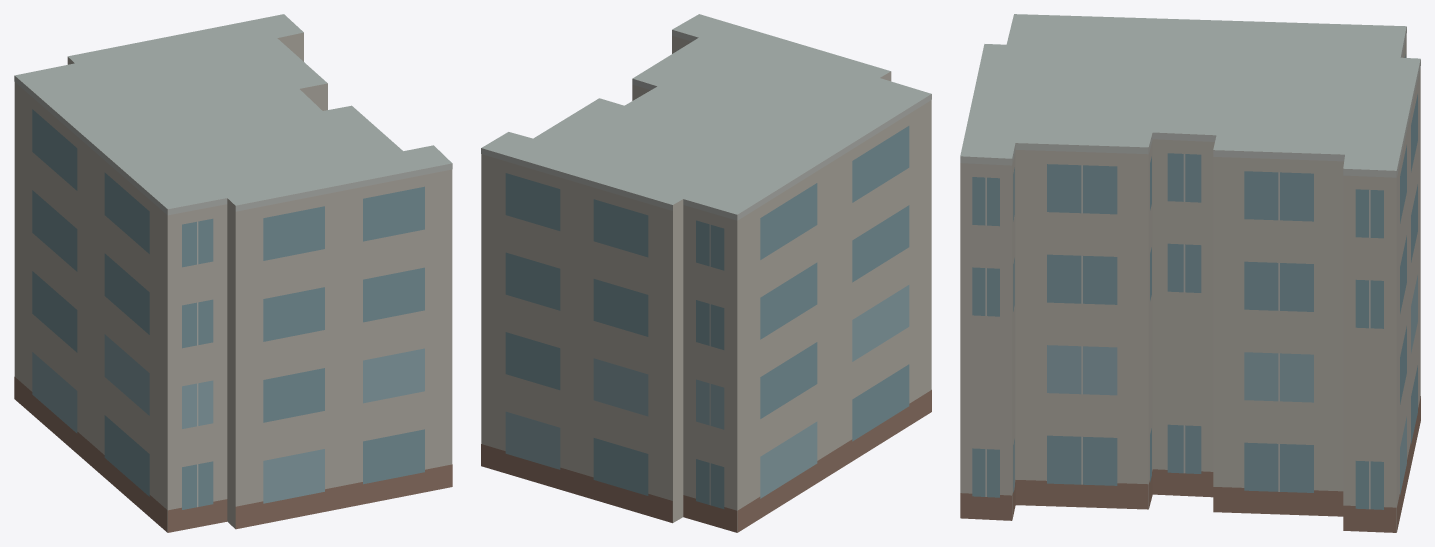
The model's file is survey-upis-32755727.glb.
3 renders of one model, left to right at view 1: azimuth 30°, elevation 25°; view 2: azimuth 150°, elevation 25°; view 3: azimuth 270°, elevation 25°, orthographic. The views are drawn at different scales.
Visible parts, largest first — view 1: survey-upis-32755727.tmp; view 2: survey-upis-32755727.tmp; view 3: survey-upis-32755727.tmp.
Part boxes in pixels (bbox=[...]): survey-upis-32755727.tmp: bbox=[14, 14, 452, 532]; survey-upis-32755727.tmp: bbox=[481, 14, 931, 532]; survey-upis-32755727.tmp: bbox=[960, 14, 1420, 532].
Size of the model in its own units: 12.09 by 13 by 15.
